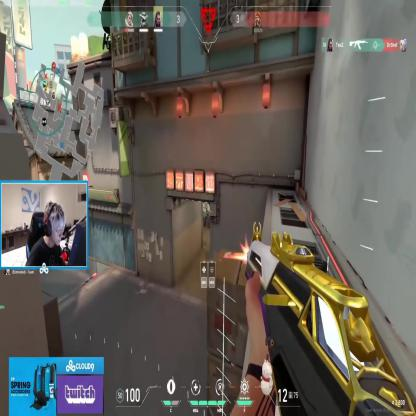enemy: (203, 200, 211, 228)
